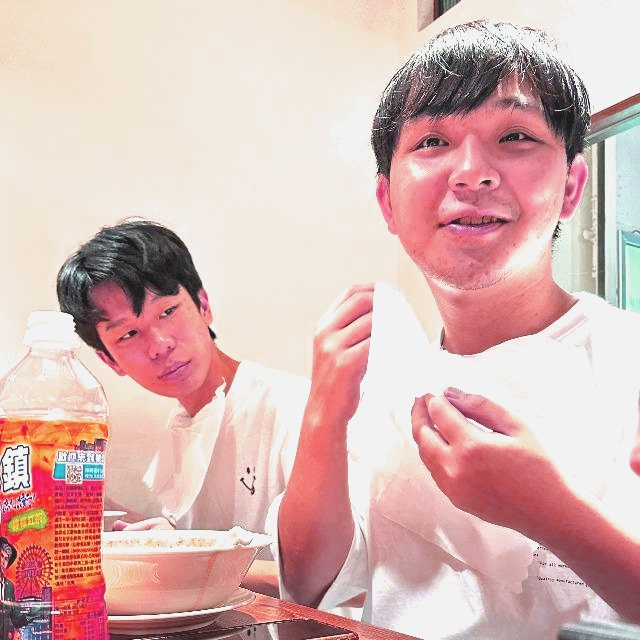Sin_Casco_Mascarrilla: (369, 23, 593, 295), (57, 218, 214, 398)
